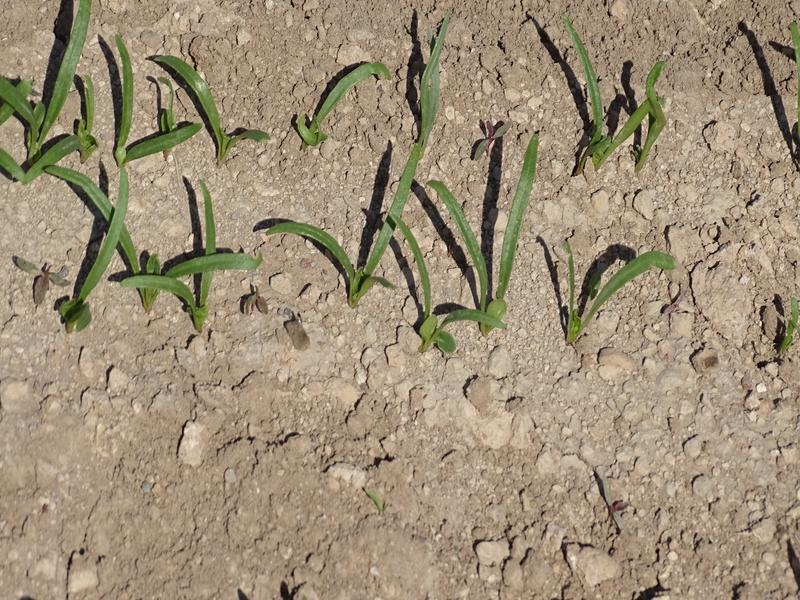Espinaca: (267, 127, 545, 333), (3, 4, 264, 168), (60, 180, 237, 328), (286, 27, 454, 143), (557, 20, 682, 155), (551, 250, 675, 331)
